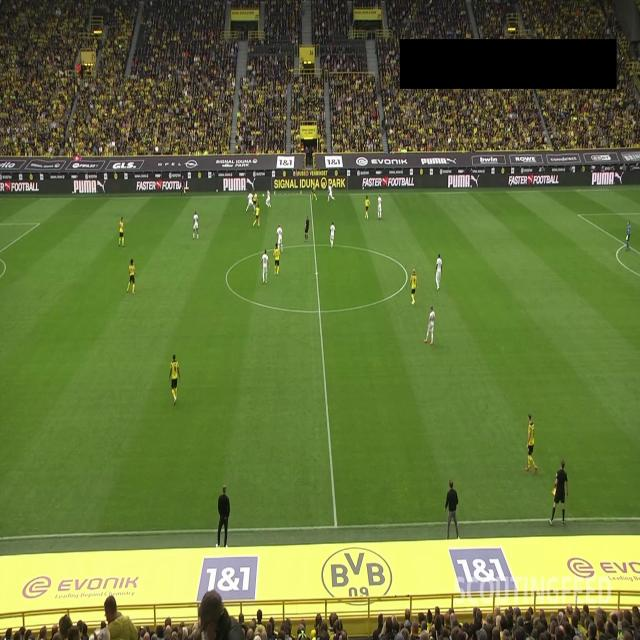ball: (262, 193, 264, 198)
goalkeeper: (625, 220, 631, 252)
player: (525, 413, 538, 475), (169, 354, 181, 406), (424, 305, 435, 345), (126, 258, 136, 293), (260, 249, 270, 284), (410, 268, 418, 306), (435, 253, 442, 291), (276, 223, 284, 253), (273, 243, 280, 276), (246, 191, 256, 213), (118, 216, 125, 246), (329, 220, 336, 248), (253, 201, 260, 227), (193, 210, 199, 240), (310, 179, 318, 201), (327, 182, 335, 202), (252, 190, 259, 212), (364, 195, 370, 219), (377, 194, 382, 220), (266, 190, 272, 208)
referee: (549, 457, 569, 527), (304, 216, 310, 242), (180, 173, 186, 196)
